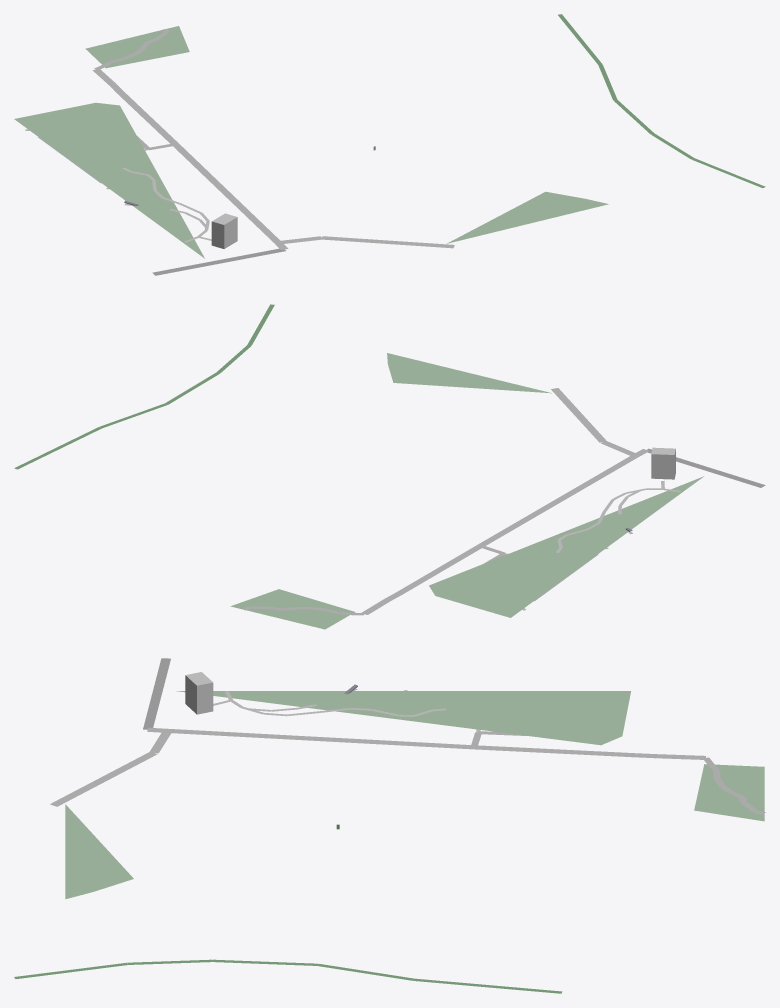
The picture shows the model from 3 angles, top to bottom: view 1: azimuth 30°, elevation 25°; view 2: azimuth 150°, elevation 25°; view 3: azimuth 270°, elevation 25°; orthographic projection. The views are drawn at different scales.
Bounding box in the file's own units: 566 × 24.75 × 538.
